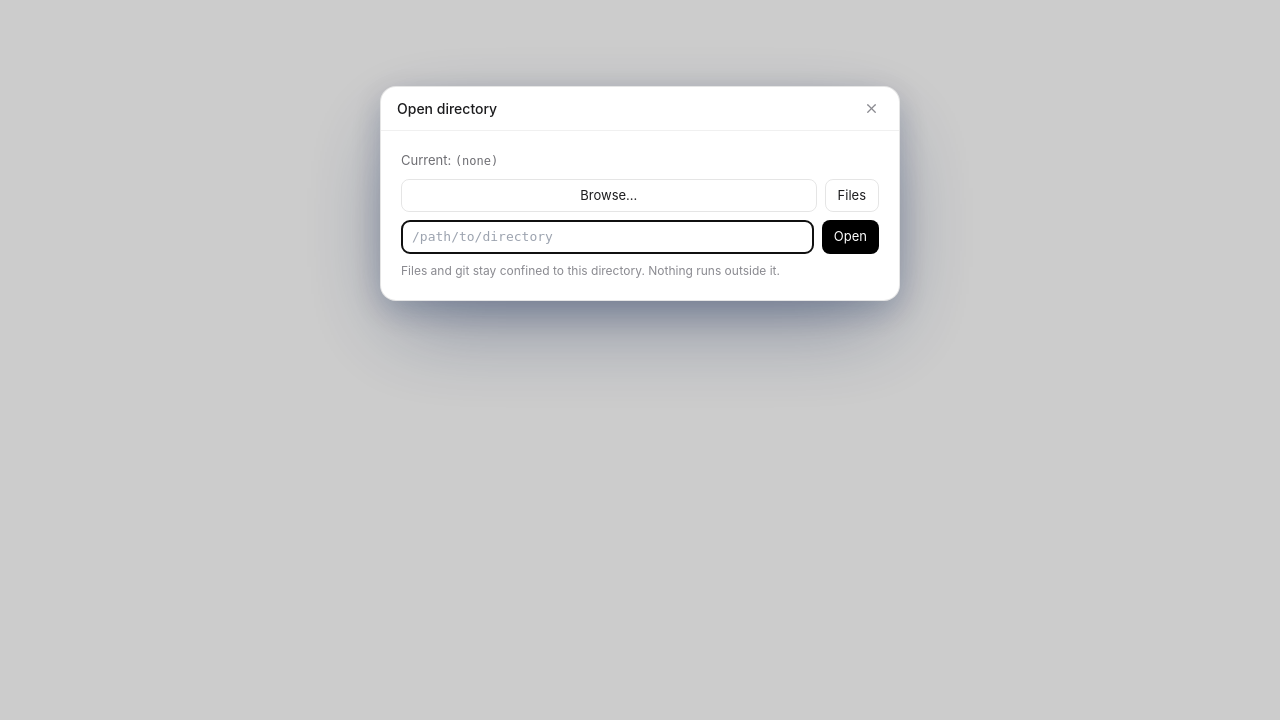
Scenario: RepoPicker › lists drives via the Files explorer
Click the button "Files" at (852, 196), box left=825, top=179, right=879, bottom=212
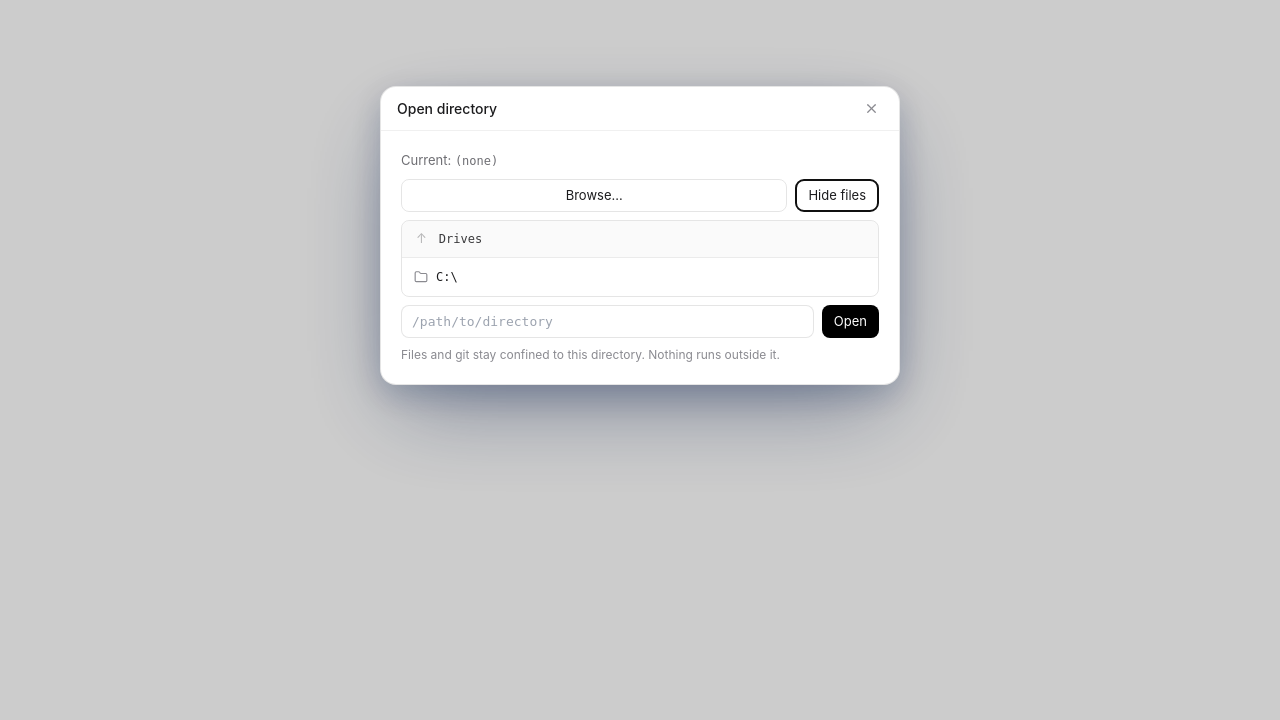
Now the text "C:\\" is shown, box left=436, top=270, right=458, bottom=284
